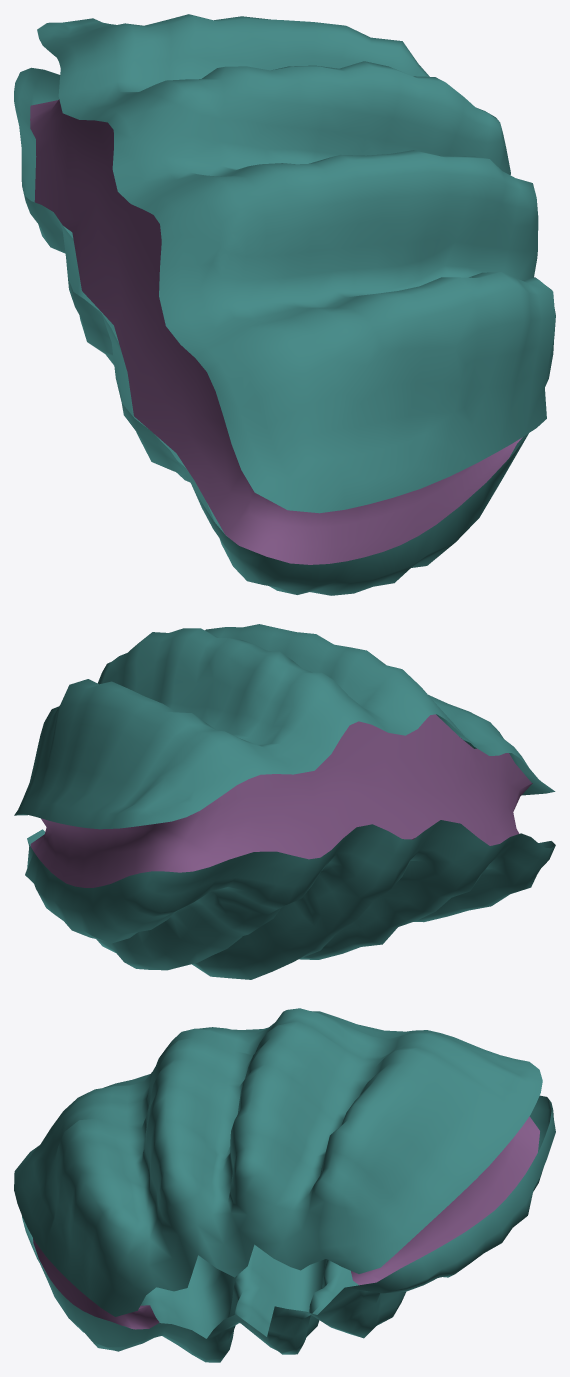
File: Clam.fbx
3 views of the same model, one above another, from view 1: azimuth 30°, elevation 25°; view 2: azimuth 150°, elevation 25°; view 3: azimuth 270°, elevation 25° (orthographic). The views are drawn at different scales.
Parts seen in each view (by area): view 1: clam_thing; view 2: clam_thing; view 3: clam_thing.
Part boxes in pixels (x1=…): clam_thing: x1=14, y1=14, x2=555, y2=595; clam_thing: x1=14, y1=624, x2=555, y2=979; clam_thing: x1=14, y1=1008, x2=555, y2=1362.
Bounding box in the file's own units: 13.29 × 12.04 × 19.14.
